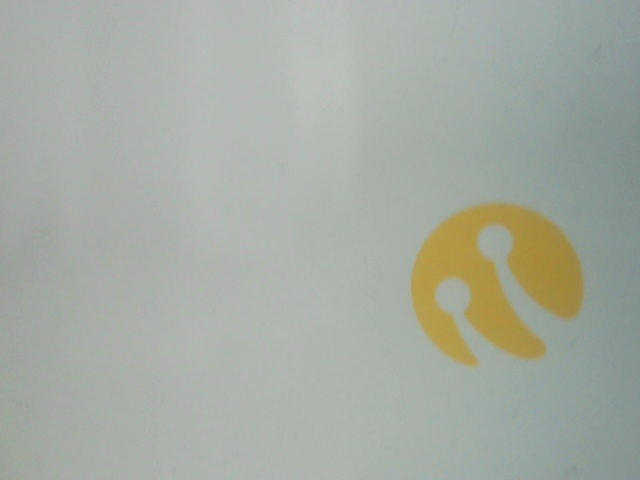AV_H3600Yellow: (407, 192, 593, 365)
